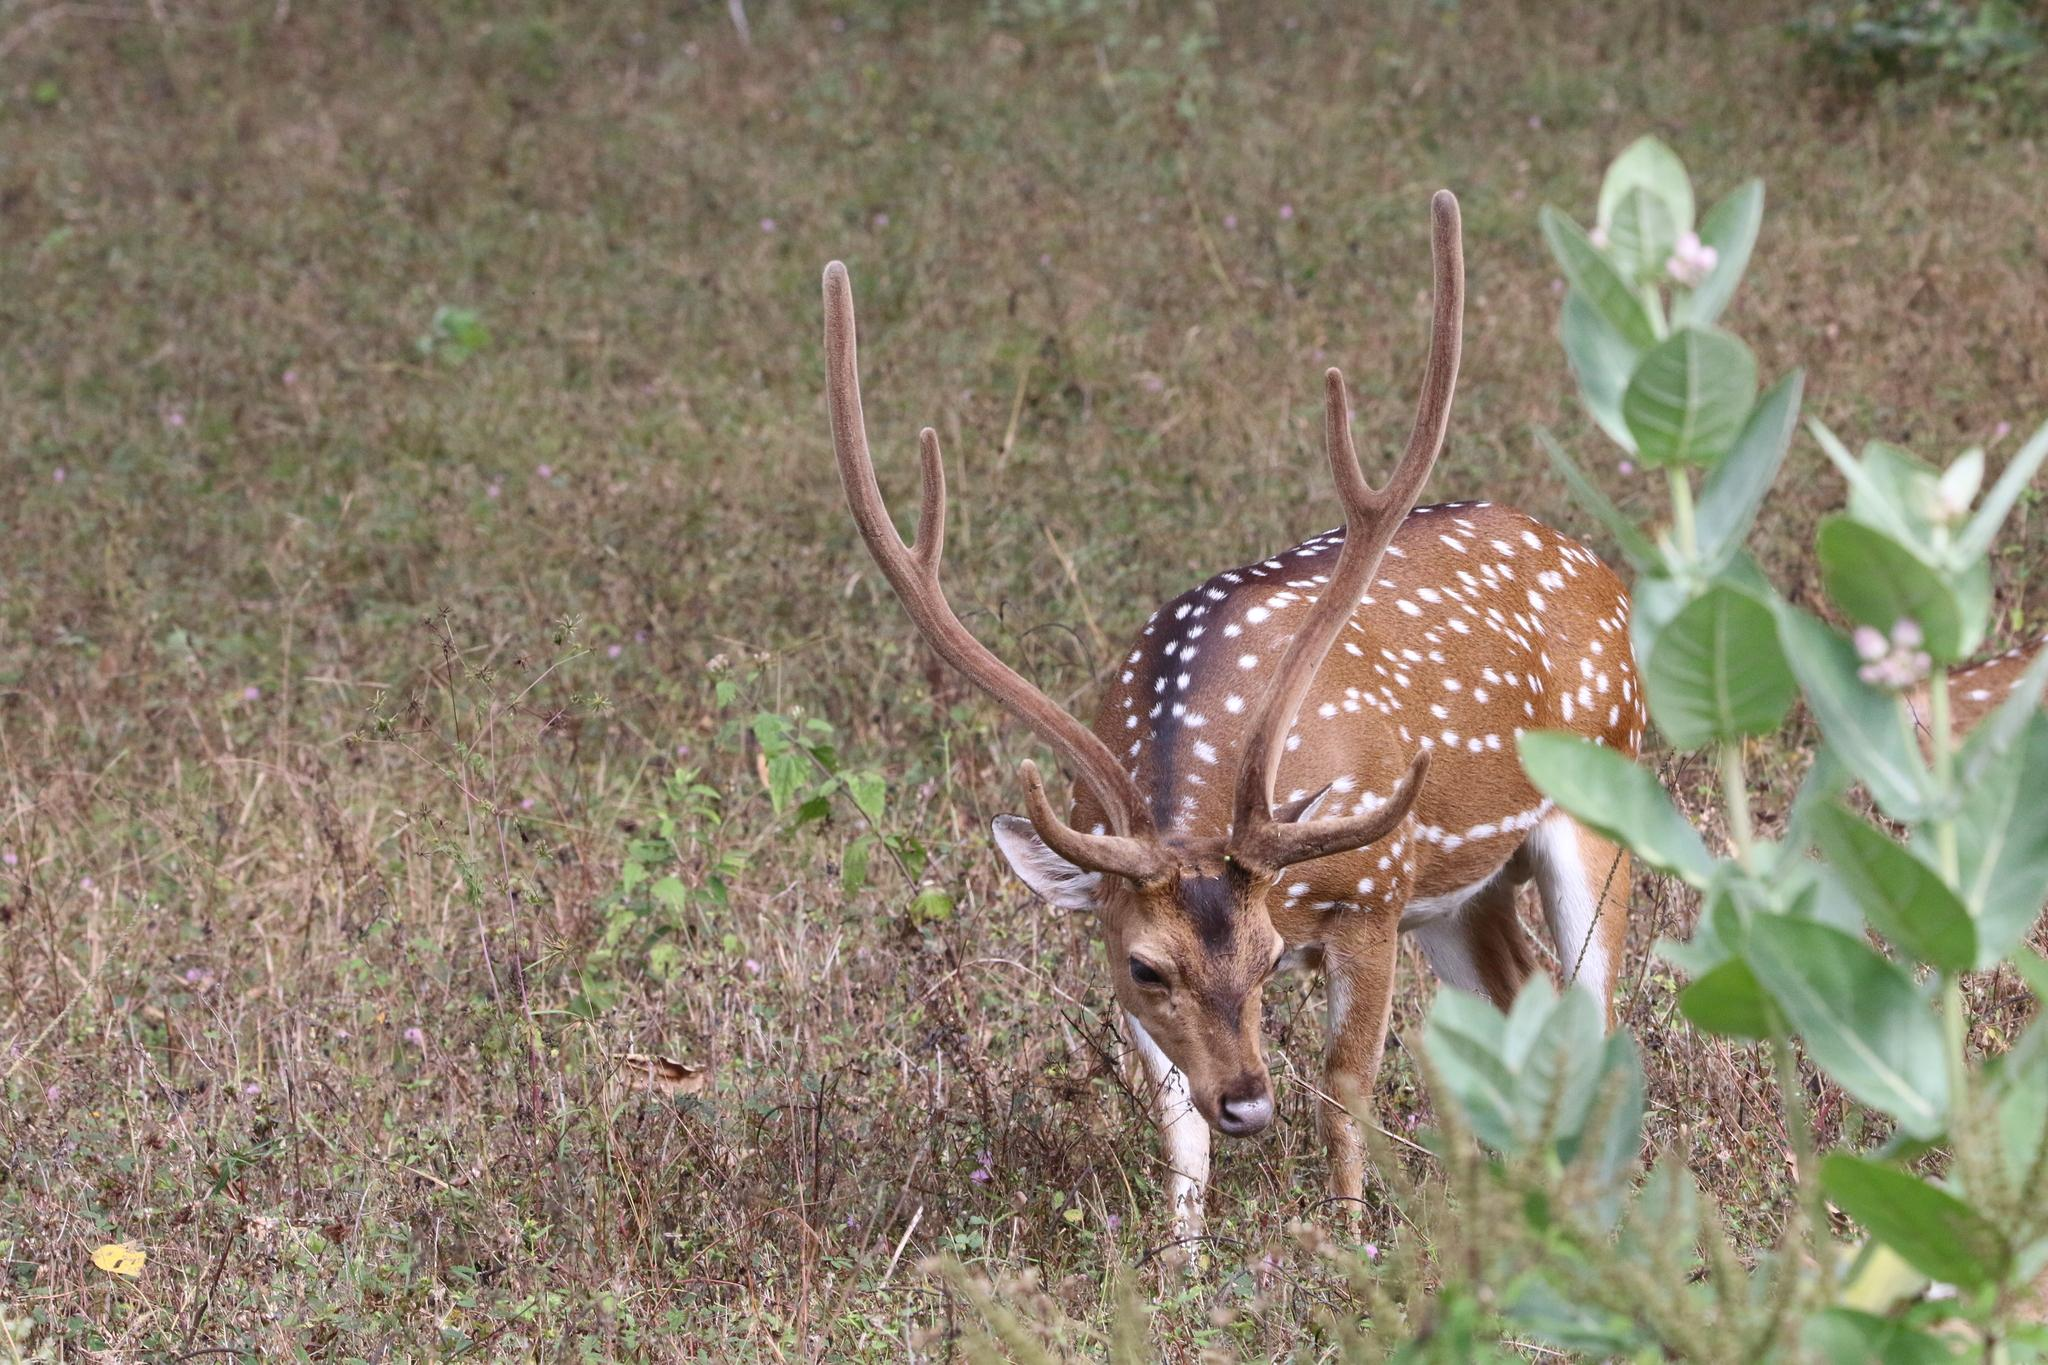Deer: (824, 190, 1641, 1240)
